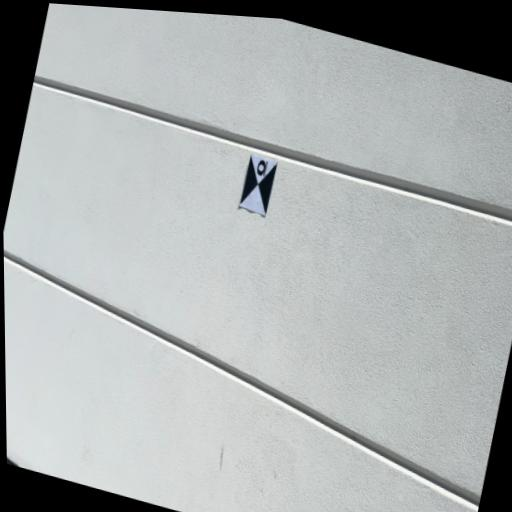target0: (238, 153, 277, 216)
